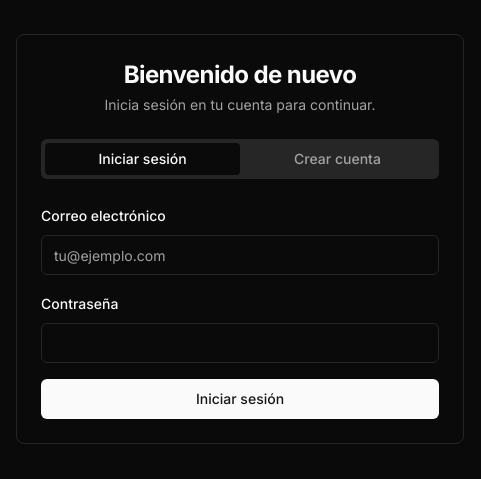
LoginPage form › falls back to generic translated error for unknown server errors (es)
Type "a@b.com" into the field labelled "Correo electrónico" at (240, 255), box 41,235 -> 439,275
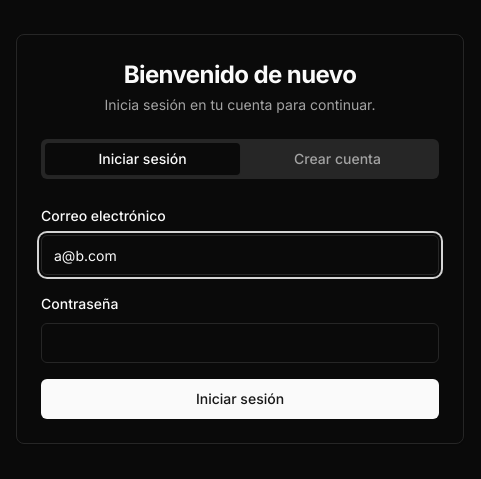
Type "wrongpass" into the password field labelled "Contraseña" at (240, 343), box 41,323 -> 439,363
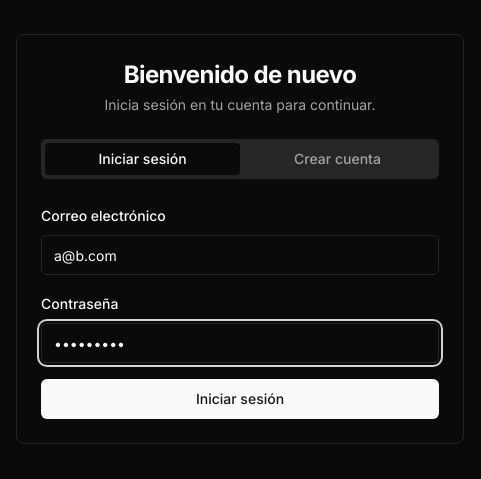
Click the button "Iniciar sesión" at (240, 399), box 41,379 -> 439,419
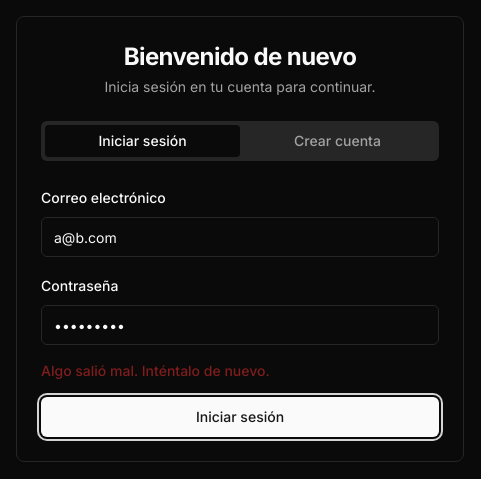
Expected: the text "Algo salió mal. Inténtalo de nuevo." is shown, 41,362 -> 270,379
